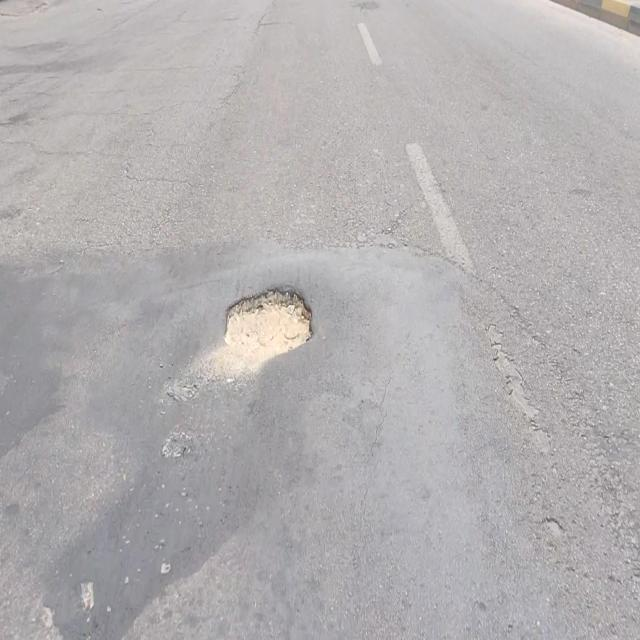Potholes: (221, 280, 314, 366)
